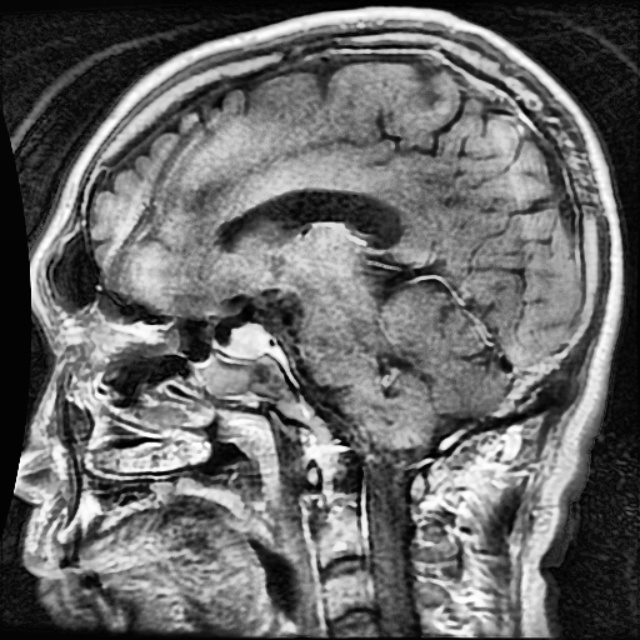Pituitary: (228, 324, 268, 354)
